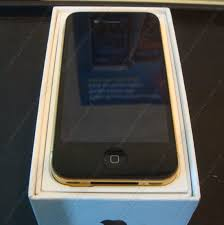iphone: (48, 6, 183, 193)
iphone4: (48, 7, 183, 194)
